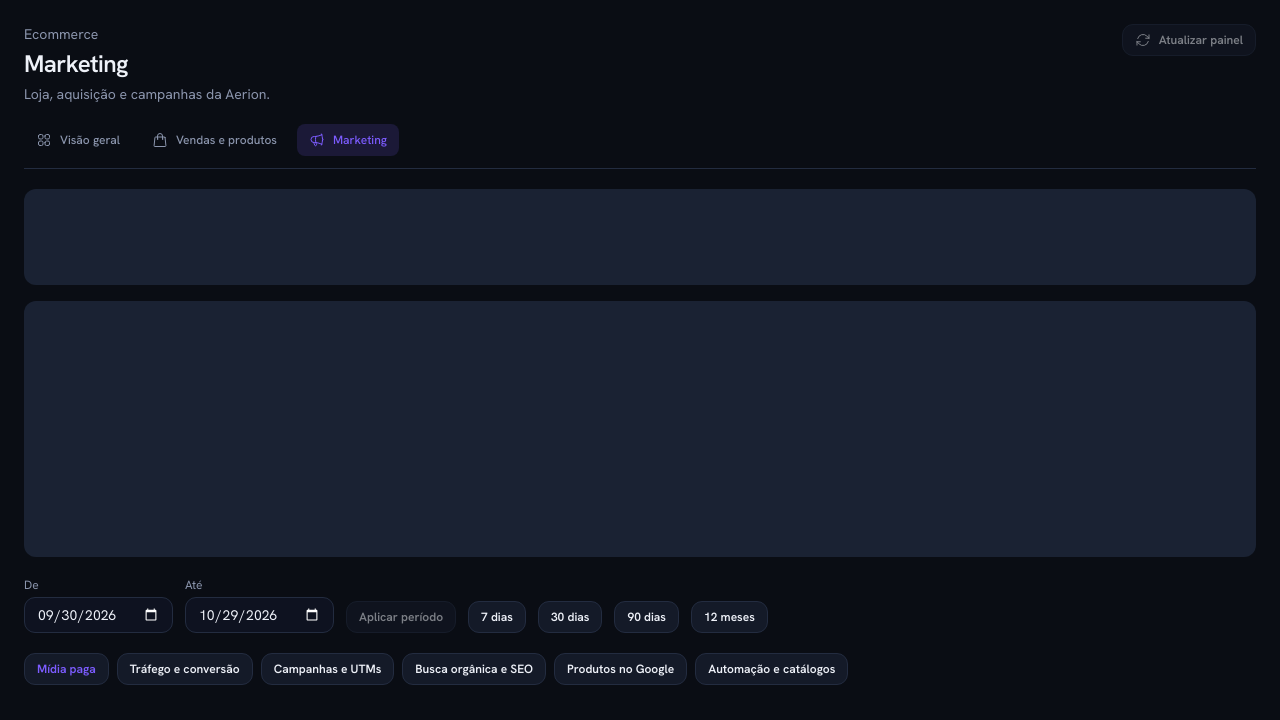
Test: marketing keeps traffic and campaigns inside the same main section
What coordinates should you click on to do the following:
click the button "Tráfego e conversão"
I would click on:
 (185, 669)
Its box is [117,653,253,685].
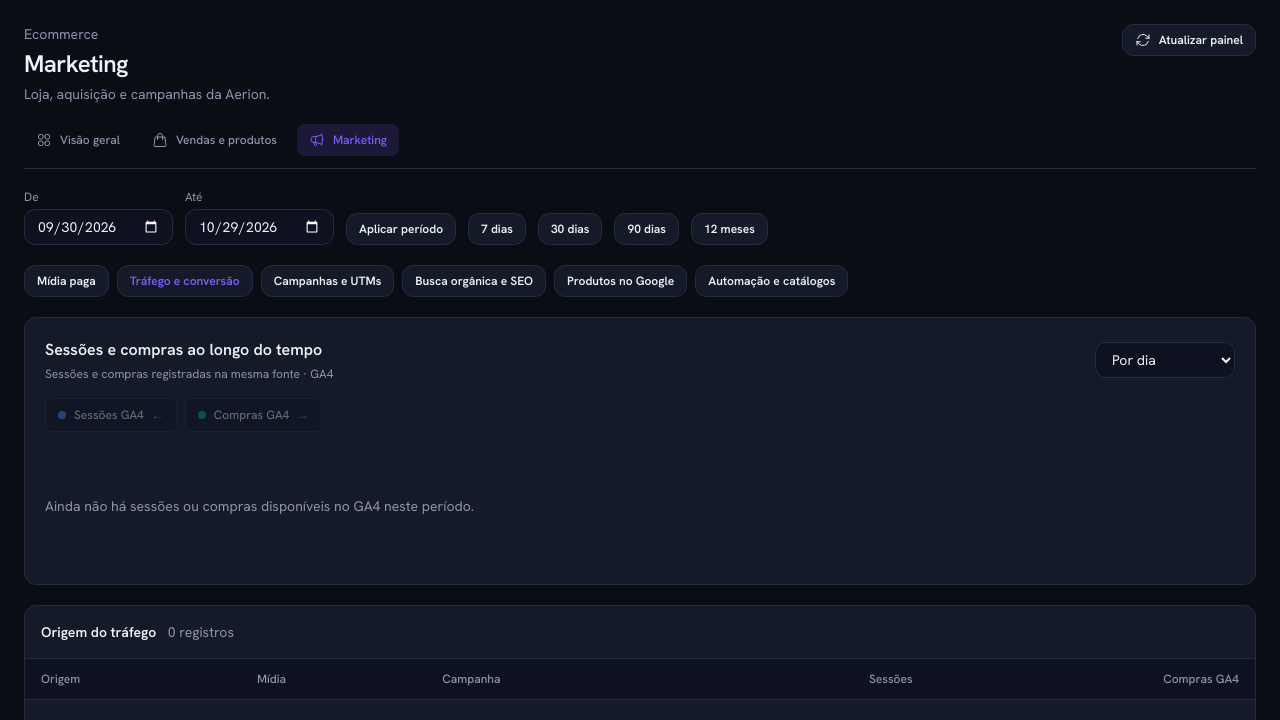
Now the text "Origem do tráfego" is shown, box [41,623,156,641]
Now the element named "Tráfego e compras no GA4" is shown, box [24,317,1256,585]
Now the button "Sessões GA4 ←" is shown, box [45,398,177,432]
